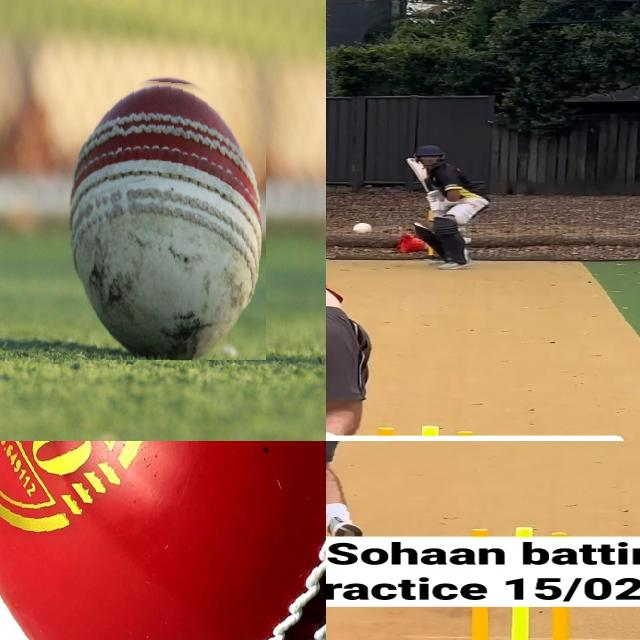Cricket ball: (0, 441, 326, 640), (66, 74, 266, 360), (352, 222, 374, 234)
Stumps: (451, 604, 585, 640)
